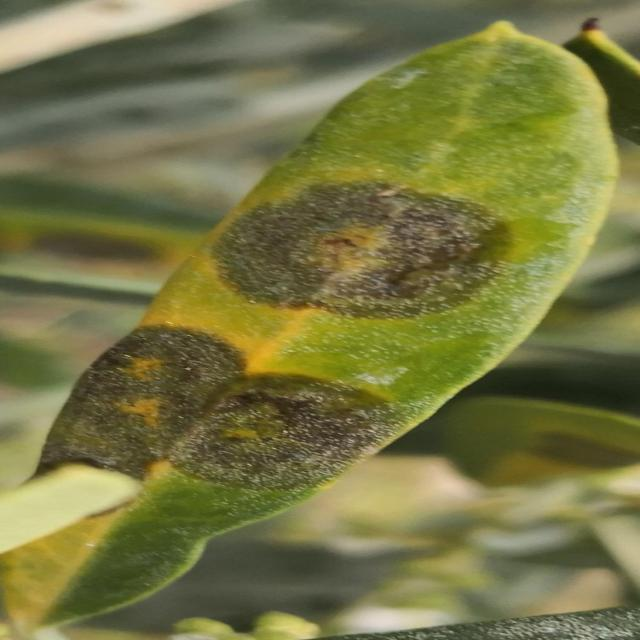Peacock Eye: (41, 22, 581, 624)
